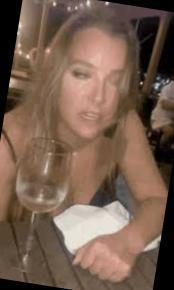Drunk: (63, 32, 127, 135)
